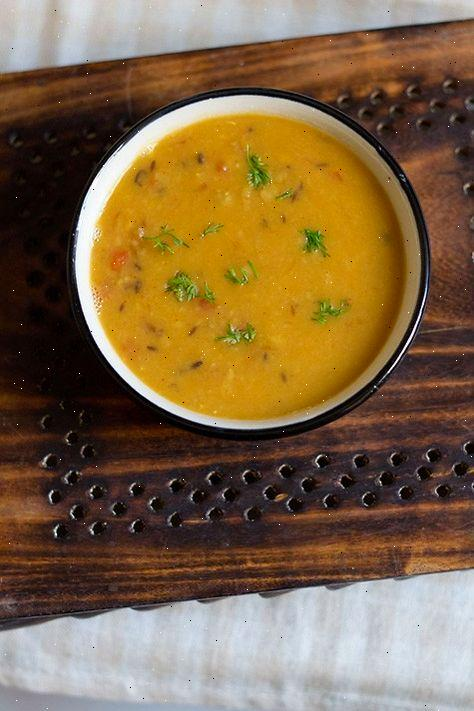daal: (67, 119, 441, 451)
